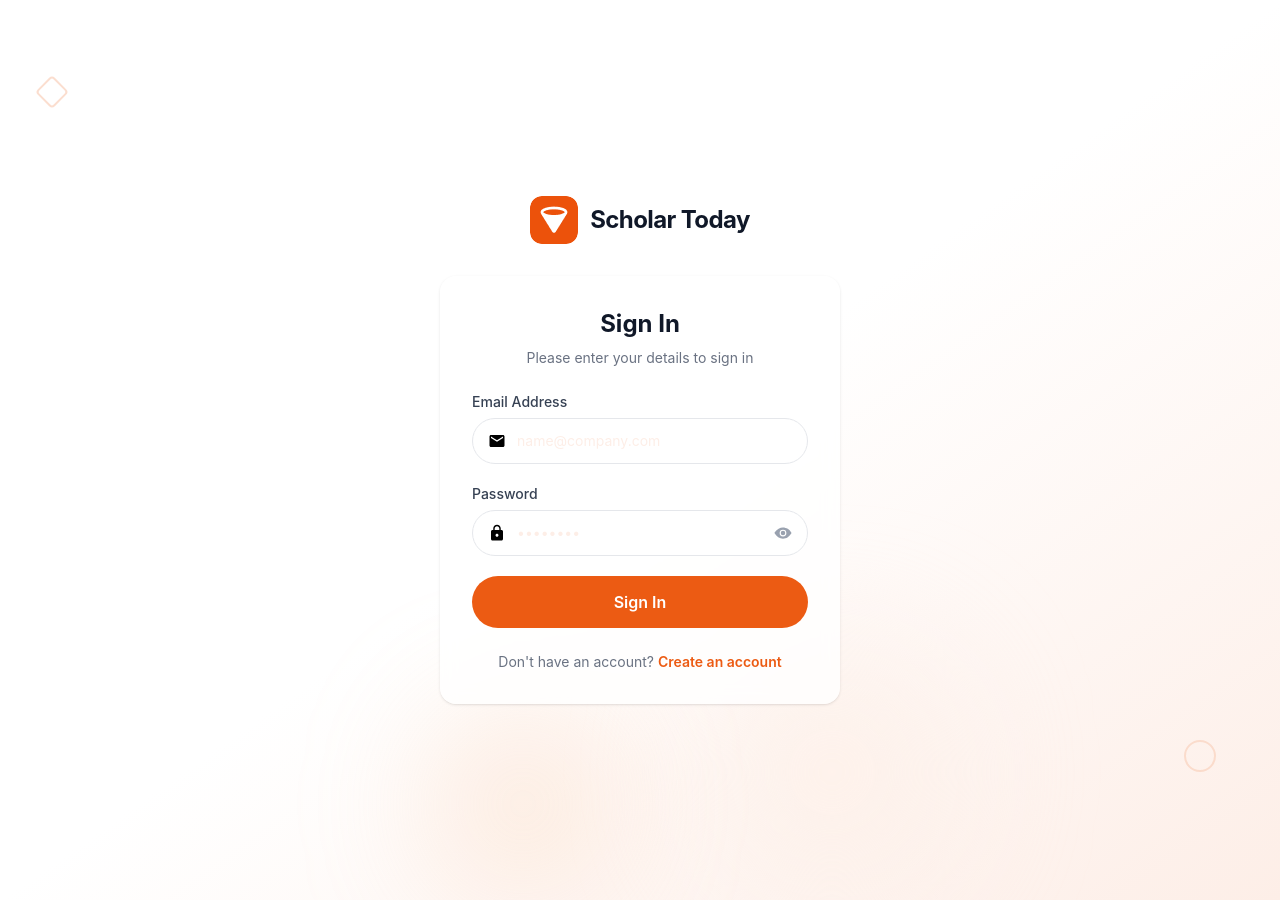
Test case: LoginPage › Login Failure › should display error message when login fails
Type "user@example.com" into the field labelled "Email Address" at (640, 441), box [472,418,808,464]
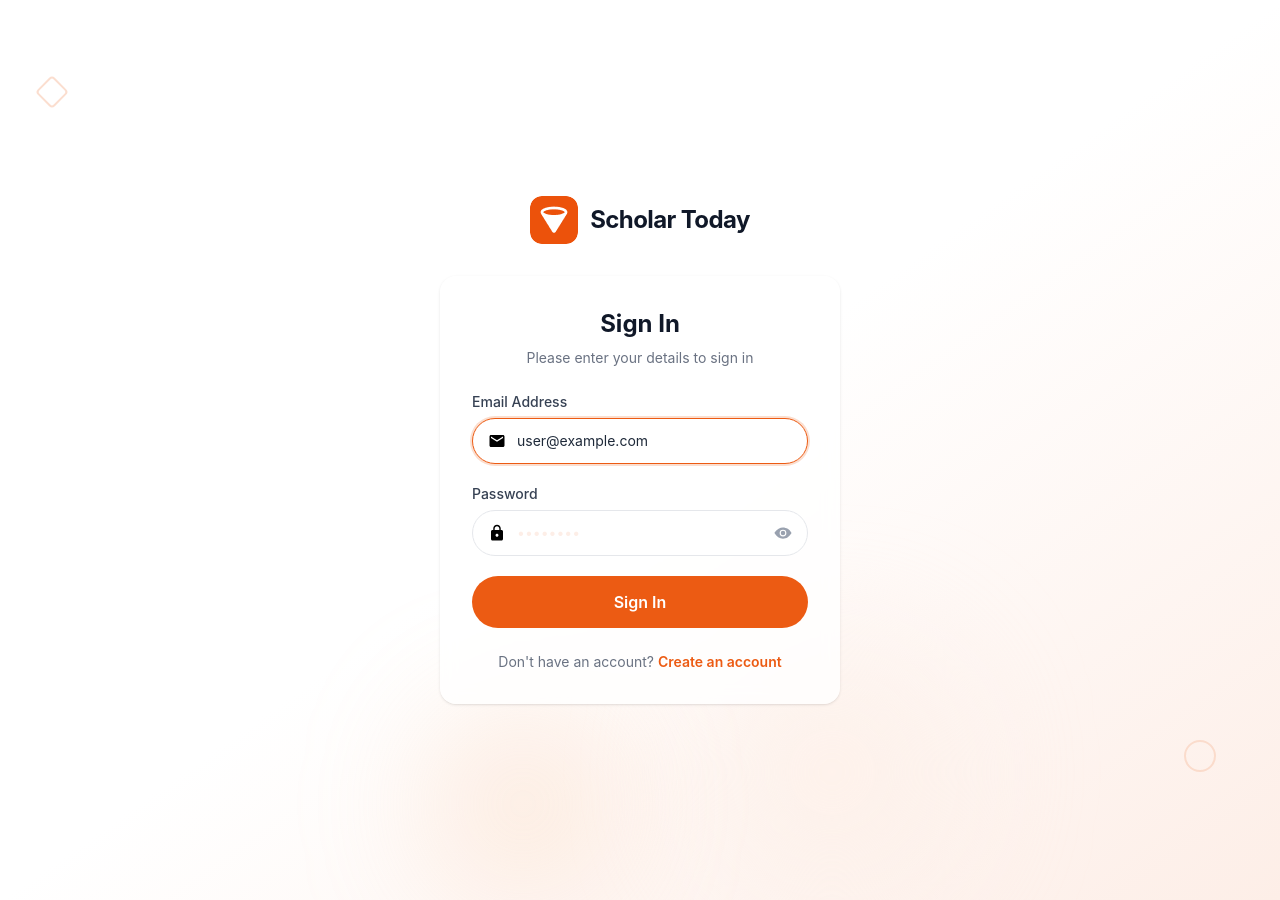
Type "wrongpassword" into the password field labelled "Password" at (640, 533), box [472,510,808,556]
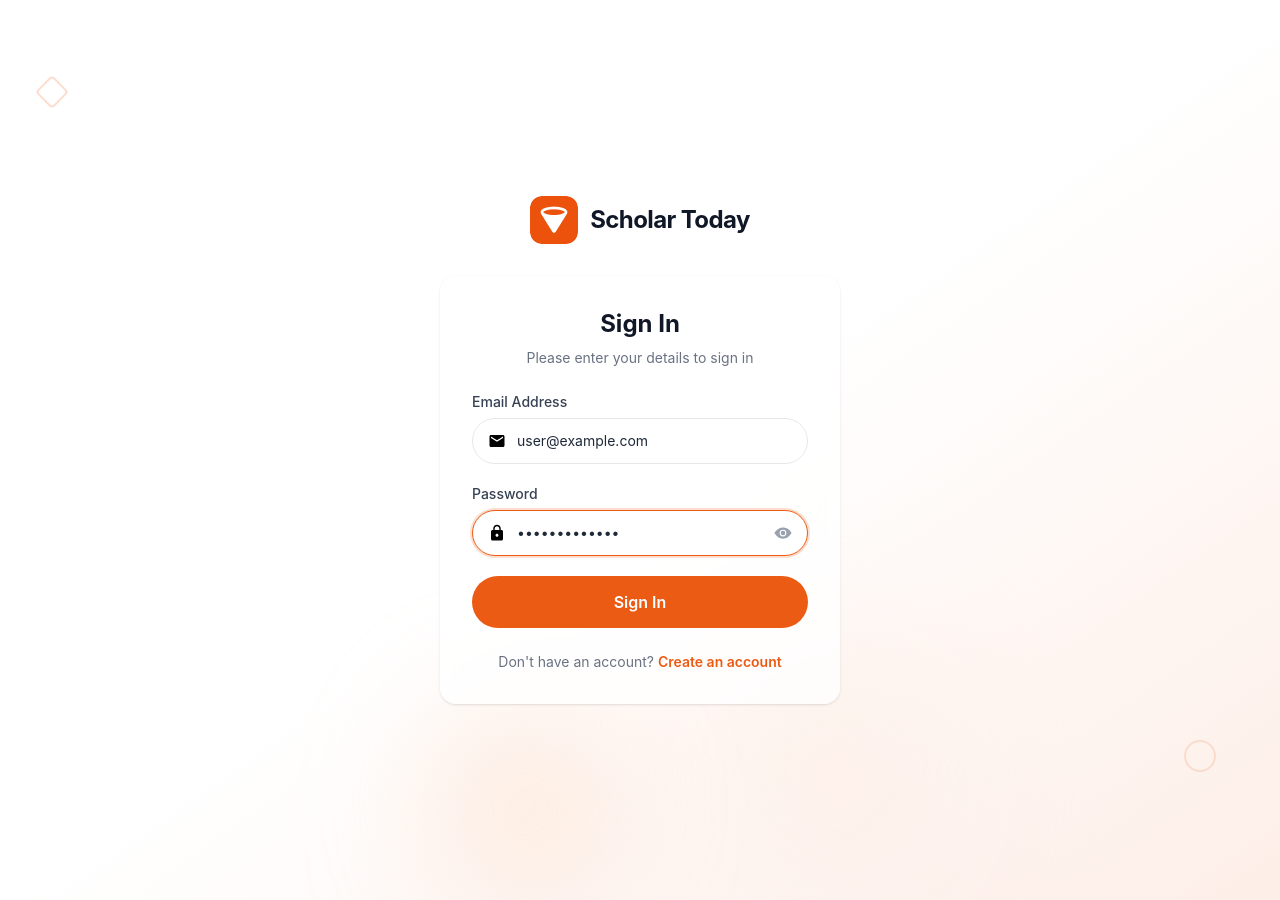
Click the button "Sign In" at (640, 602), box [472,576,808,628]
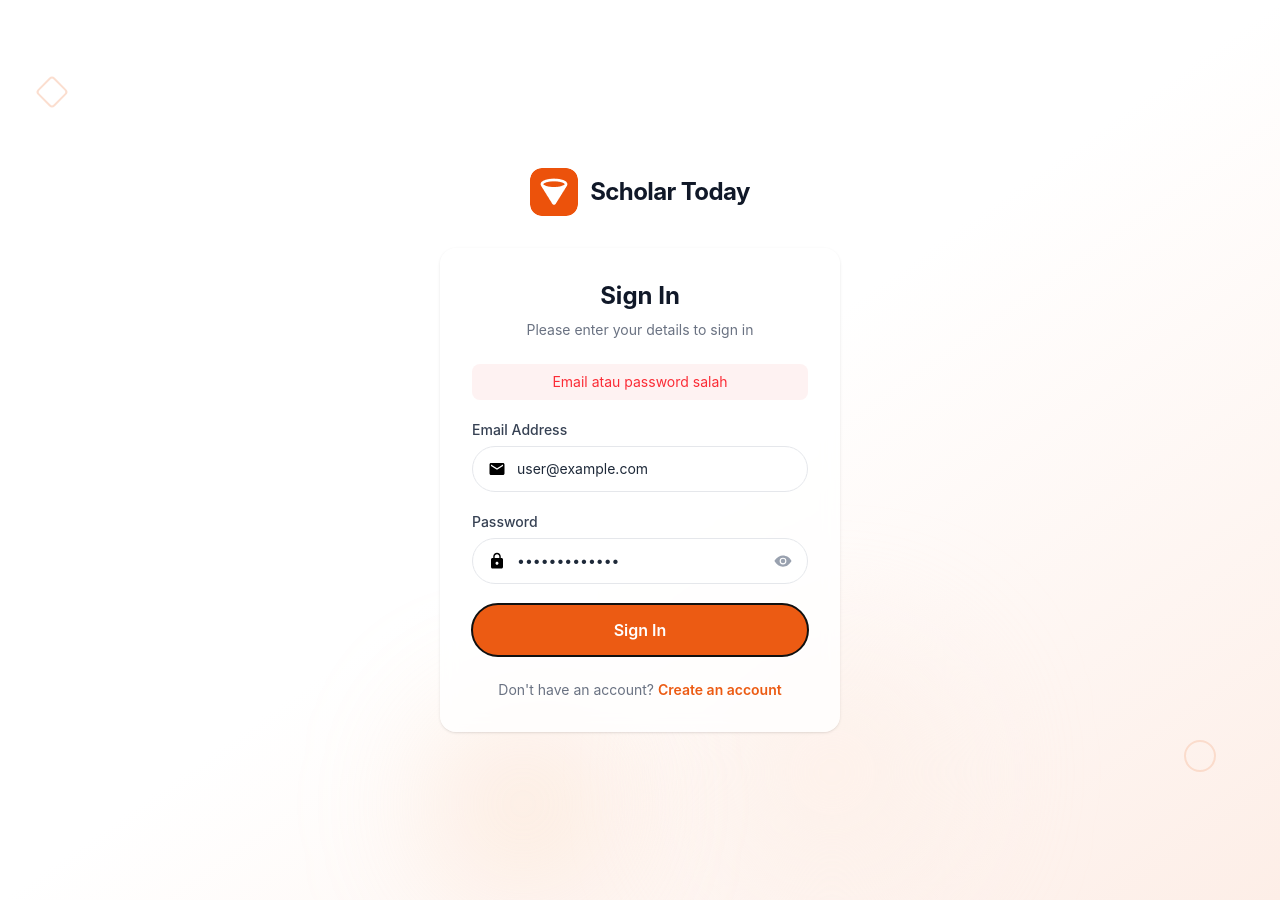
Expected: the text "Email atau password salah" is shown, [472,364,808,400]
